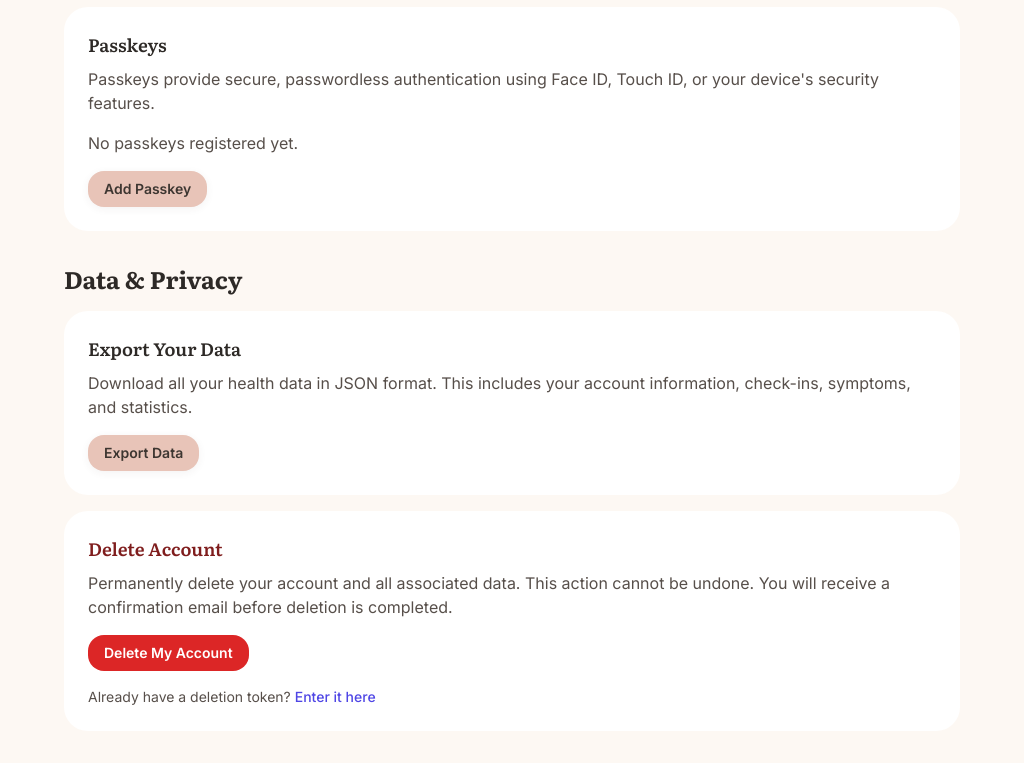
Test: SettingsPage › Delete Account › should show error message if deletion request fails
This screenshot has width=1024, height=763.
(page scrolled)
// Click delete button
Click the button "Delete My Account". click: point(168, 653)
box: [88,635,249,671]
(page scrolled)
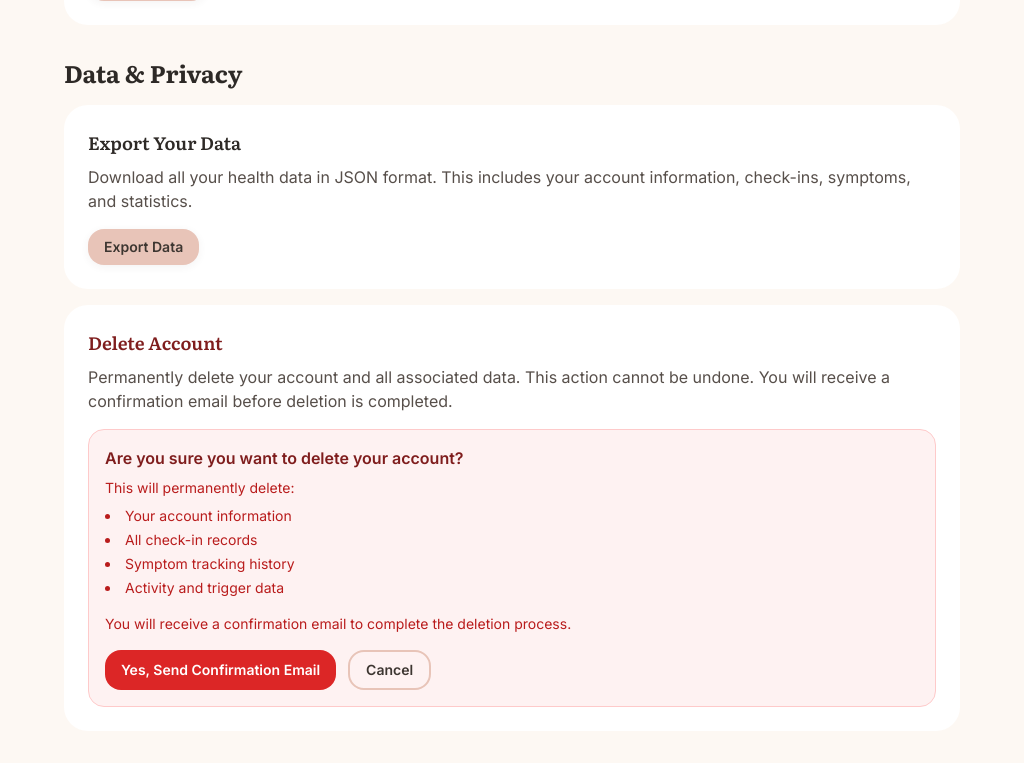
// Confirm deletion
Click the button "Yes, Send Confirmation Email". click: point(221, 670)
box: [105,650,336,690]
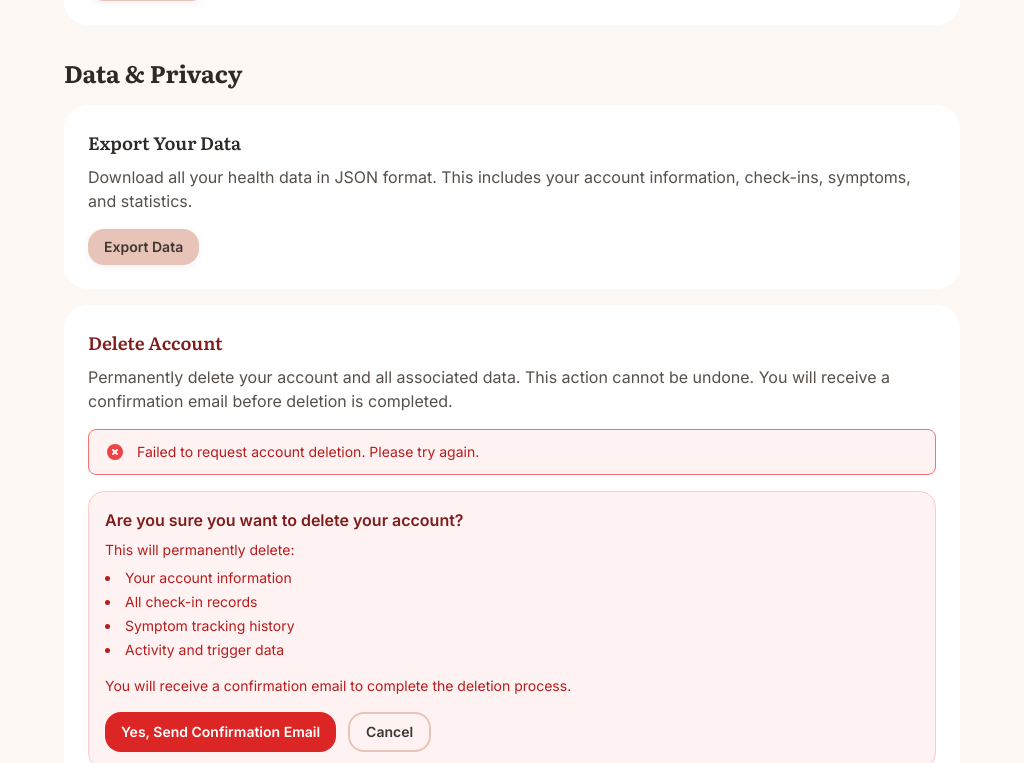
Check: the text "Failed to request account deletion. Please try again." is shown, box [137,443,479,460]
